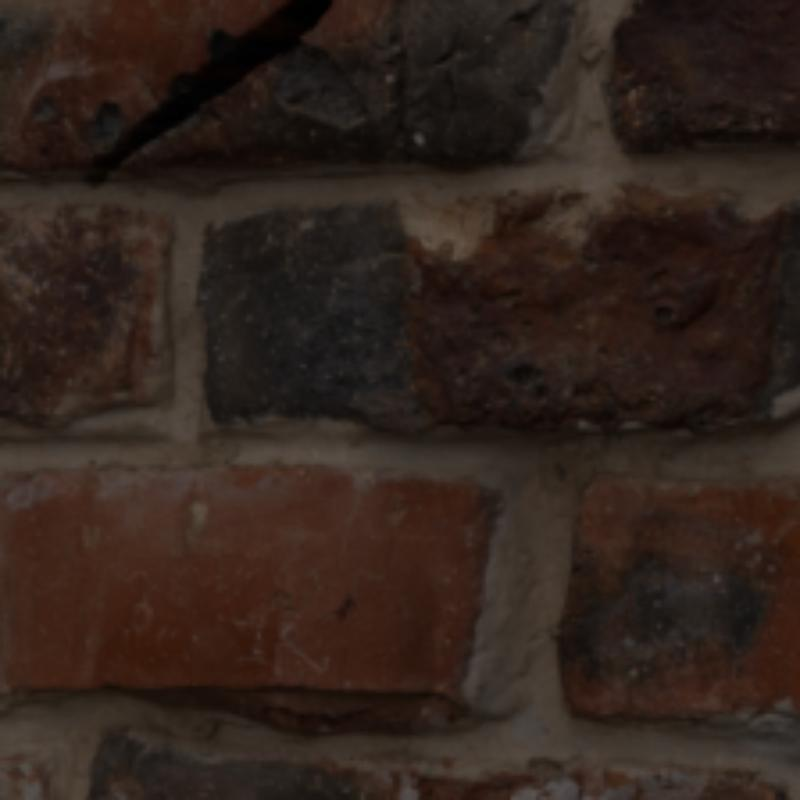pothole: (79, 0, 332, 189)
